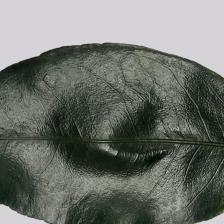healthy: (10, 59, 204, 204)
